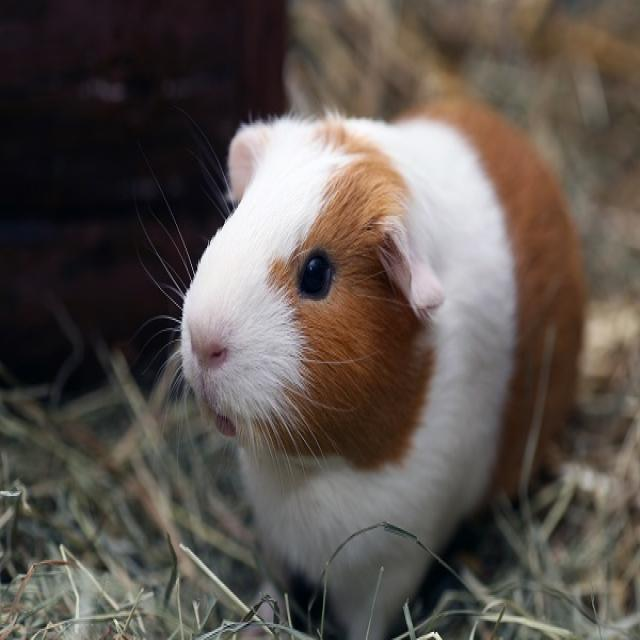guinea pig: (182, 99, 582, 640)
